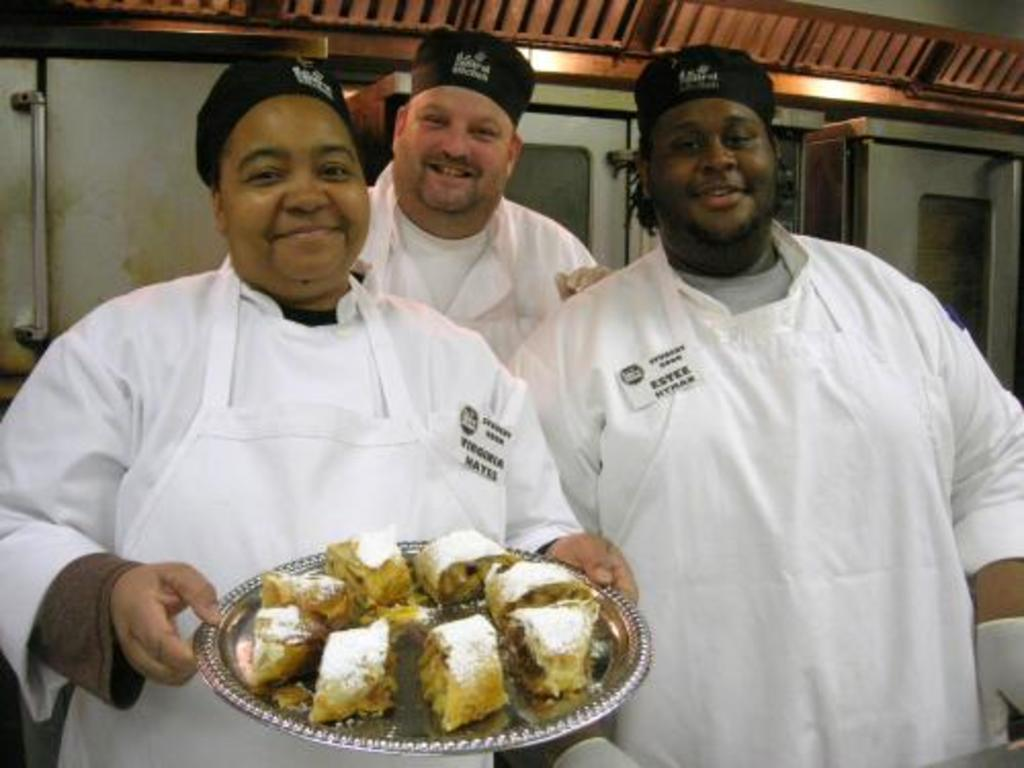Person: (0, 43, 646, 768), (504, 40, 1024, 768), (217, 24, 617, 370)
